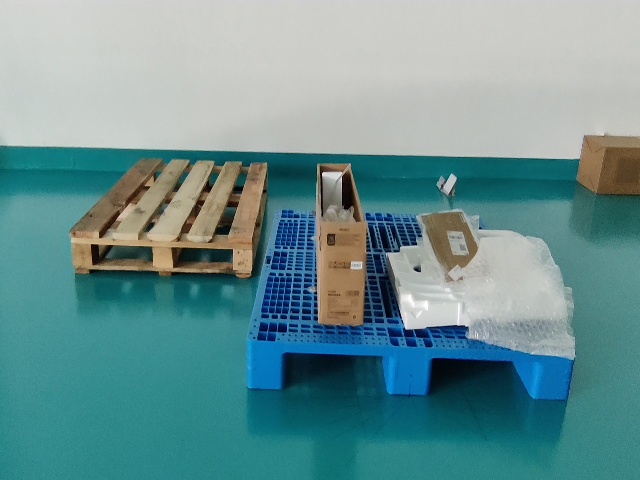block: (385, 347, 433, 398), (244, 338, 286, 390), (532, 351, 573, 402)
front: (244, 340, 576, 404)
hole pallet: (426, 359, 533, 394), (284, 357, 385, 394)
